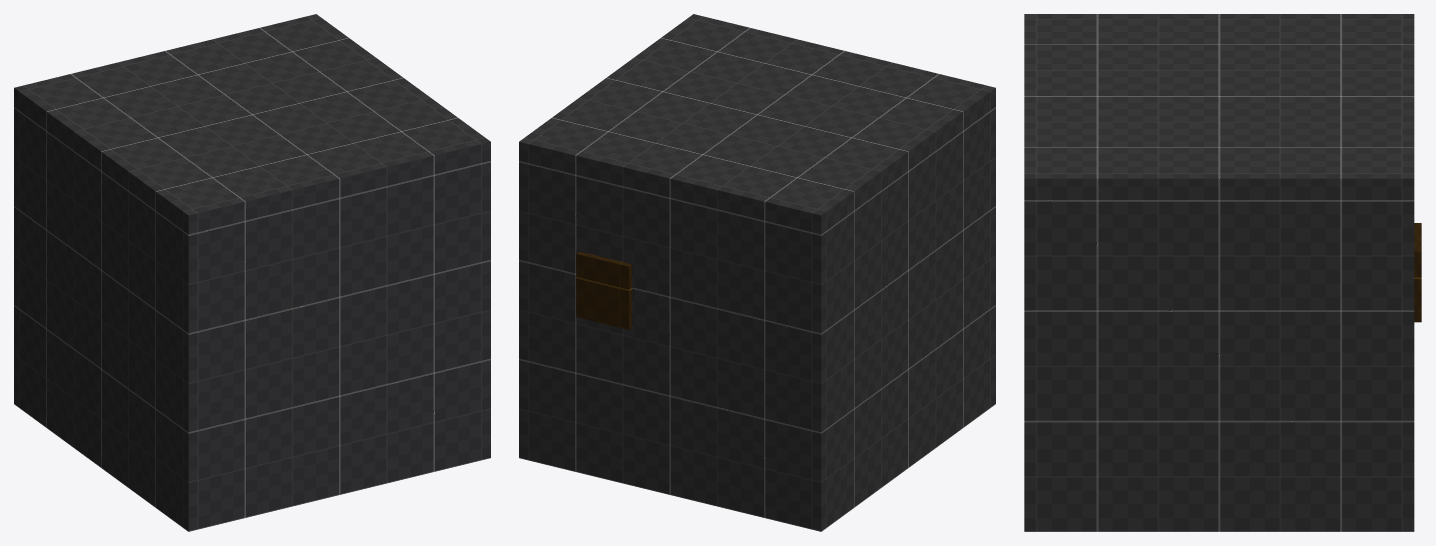
File: mining-ore.glb
3 views of the same model, side by side, from view 1: azimuth 30°, elevation 25°; view 2: azimuth 150°, elevation 25°; view 3: azimuth 270°, elevation 25° (orthographic). The views are drawn at different scales.
Visible parts, largest first — view 1: Rock; view 2: Rock, Seam; view 3: Rock, Seam.
Boxes of the visible parts, x1=… form: Rock: x1=14, y1=14, x2=490, y2=531; Rock: x1=519, y1=14, x2=995, y2=531; Seam: x1=576, y1=251, x2=632, y2=329; Rock: x1=1024, y1=14, x2=1414, y2=531; Seam: x1=1414, y1=223, x2=1421, y2=322.
Bounding box in the file's own units: 1.6 × 1.6 × 1.63.
Materials: 2 (2 with a texture image).
